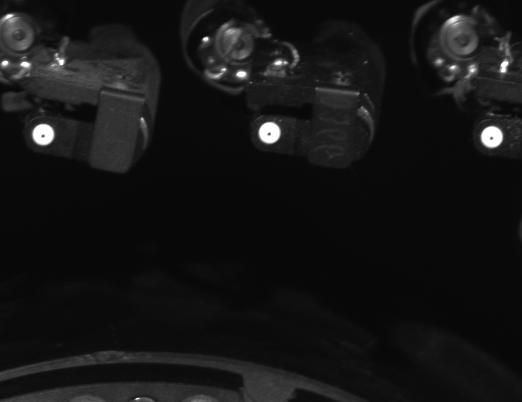fiber: (29, 118, 58, 152), (477, 122, 506, 154), (256, 119, 284, 148)
